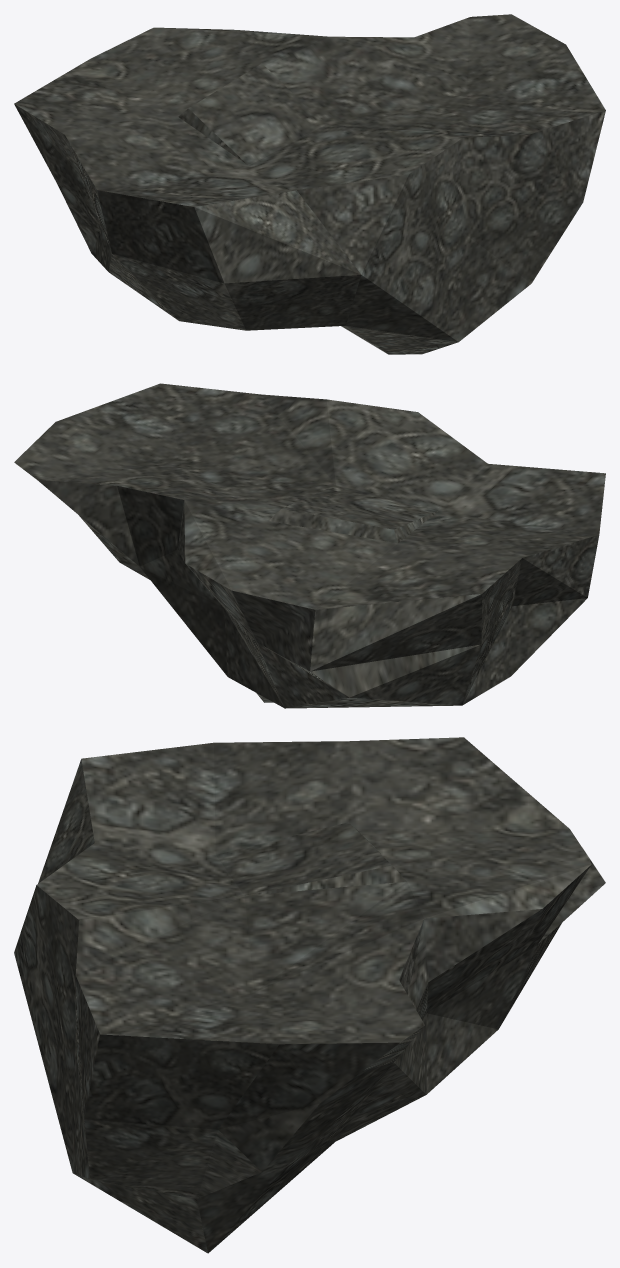
Rendered from SD_N_stone03.FBX.
3 views of the same model, one above another, from view 1: azimuth 30°, elevation 25°; view 2: azimuth 150°, elevation 25°; view 3: azimuth 270°, elevation 25° (orthographic). The views are drawn at different scales.
Parts seen in each view (by area): view 1: SD_N_stone03; view 2: SD_N_stone03; view 3: SD_N_stone03.
Boxes of the visible parts, left/top/right/bottom form: SD_N_stone03: left=14, top=14, right=605, bottom=354; SD_N_stone03: left=14, top=383, right=605, bottom=708; SD_N_stone03: left=14, top=737, right=605, bottom=1253.
Size of the model in its own units: 147 by 73.76 by 119.
